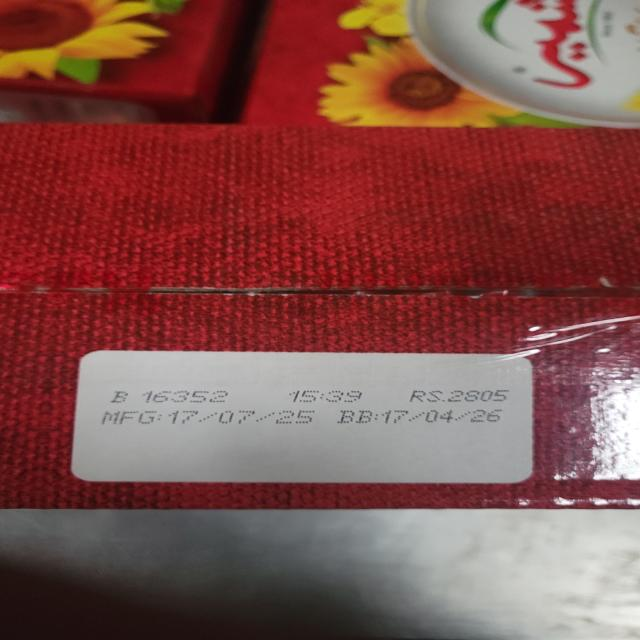BB: (338, 409, 507, 425)
Batch: (108, 389, 232, 404)
MFG: (101, 408, 324, 426)
RS: (407, 389, 512, 402)
TimeStamp: (288, 389, 364, 403)
